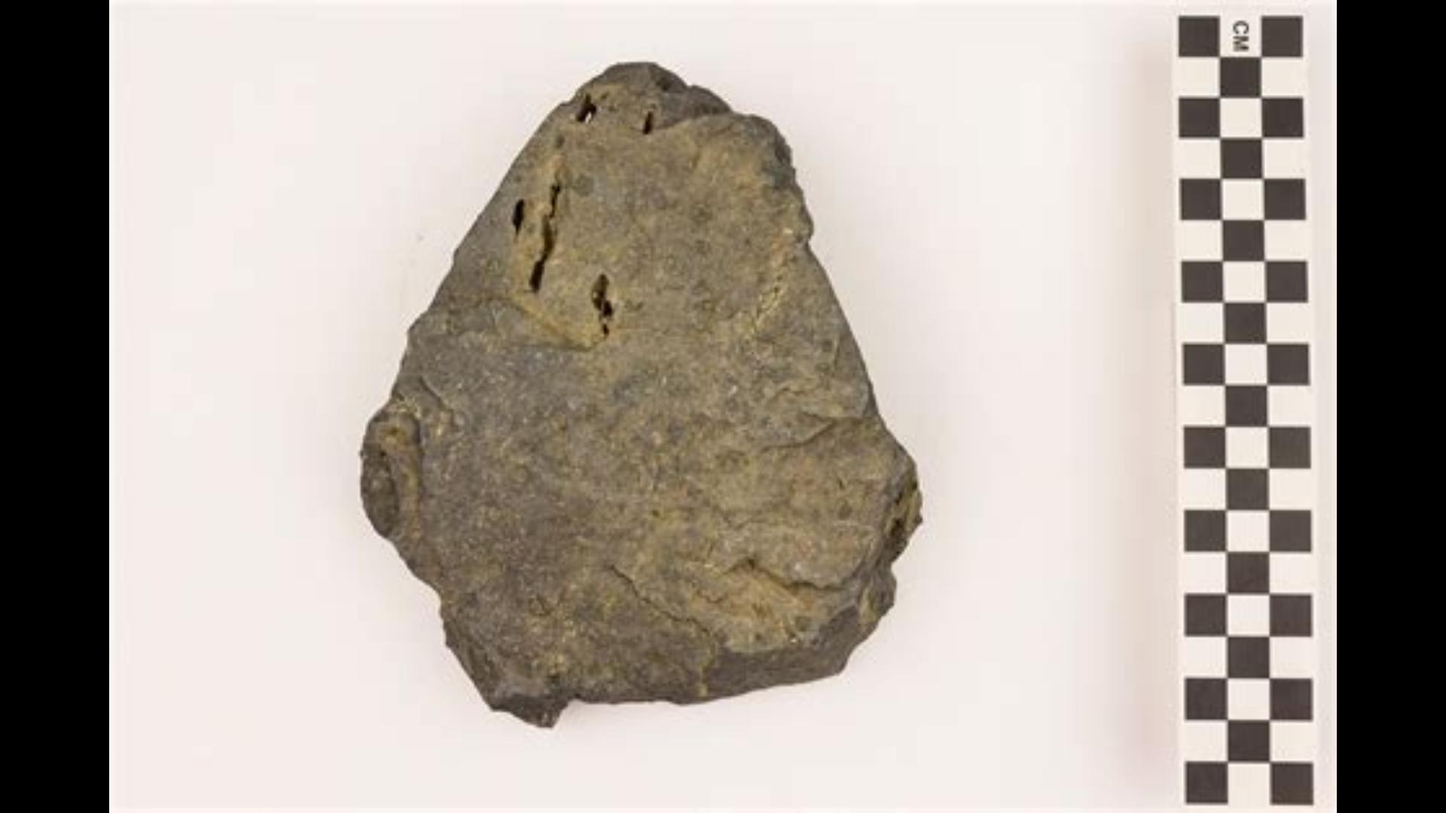rock: (360, 62, 917, 725)
